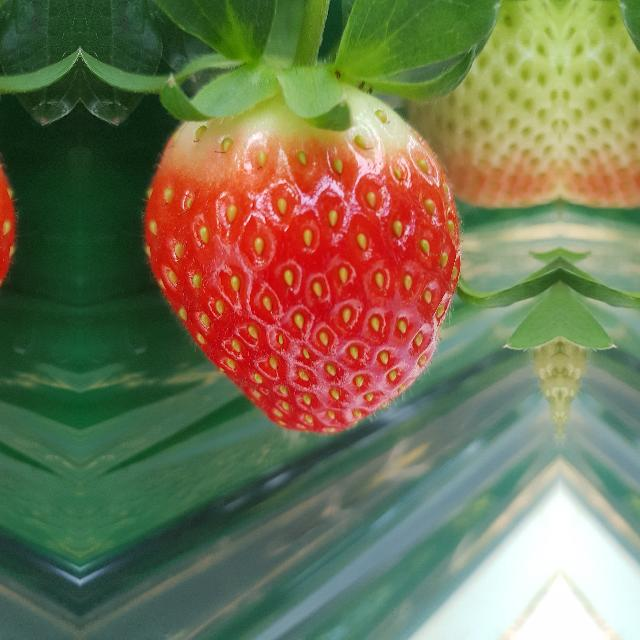Health_100: (138, 78, 464, 434)
